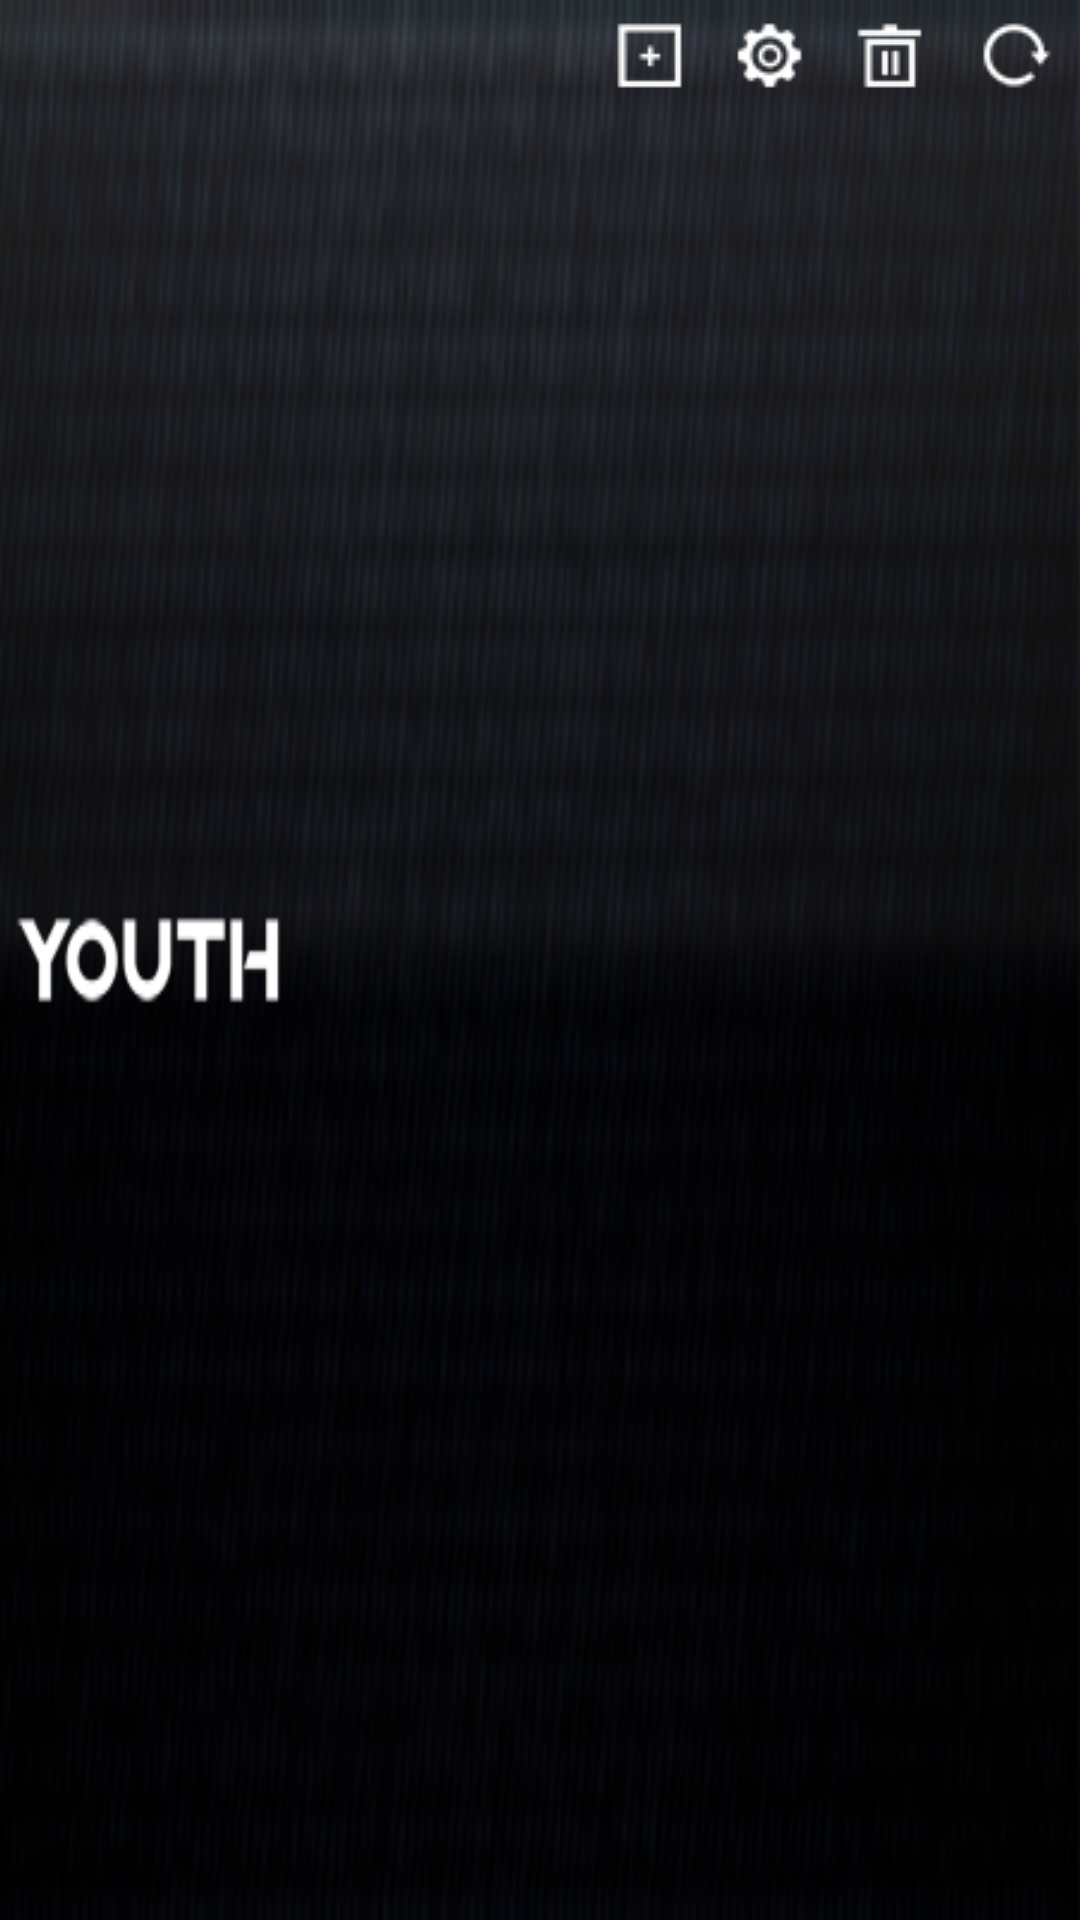

Named icons in this screenshot (1080w x 1920h) and their centers, (x,y):
rootblock refresh: (1017,55)
